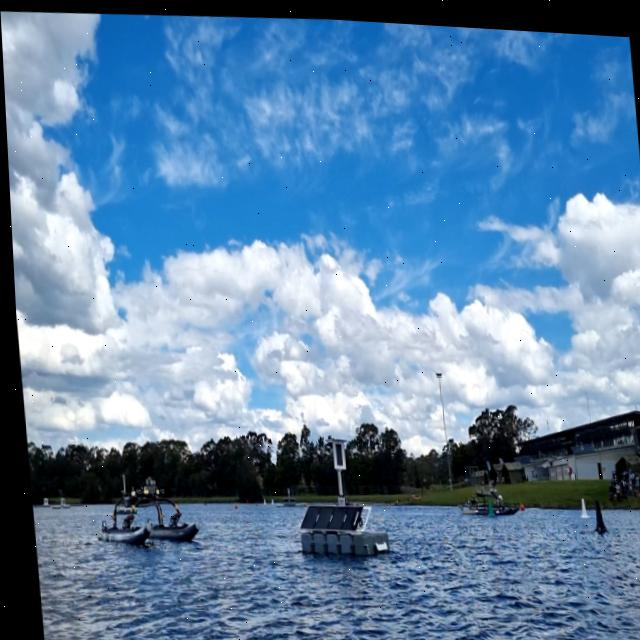led: (328, 437, 340, 464)
